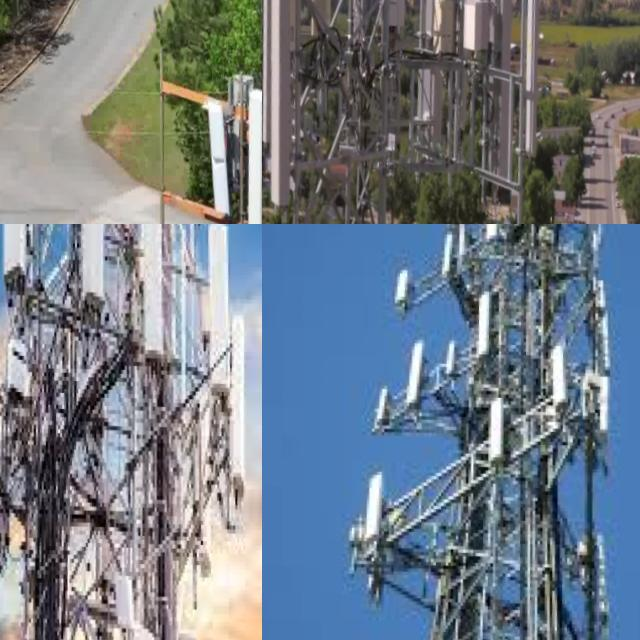GSM Antenna: (262, 0, 324, 213), (470, 0, 541, 186), (400, 0, 470, 159), (222, 288, 262, 494), (197, 224, 245, 395), (125, 224, 186, 358), (440, 0, 492, 148), (513, 0, 559, 161), (203, 90, 244, 220), (67, 224, 120, 305), (234, 81, 262, 224), (404, 331, 439, 409), (365, 461, 401, 534), (0, 224, 40, 287), (484, 380, 514, 457), (470, 281, 498, 359), (381, 0, 420, 52), (550, 331, 574, 400), (443, 326, 468, 384), (377, 366, 402, 420), (392, 259, 417, 302), (438, 224, 458, 266), (485, 224, 502, 239)
